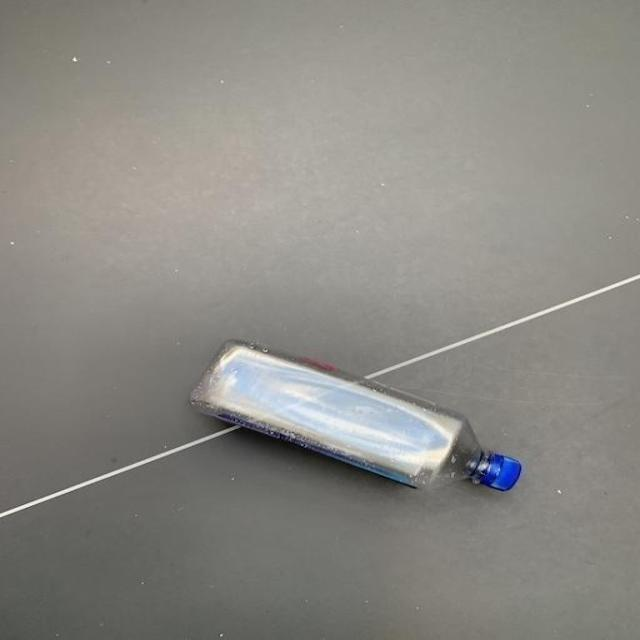plastic bottle: (191, 341, 524, 493)
